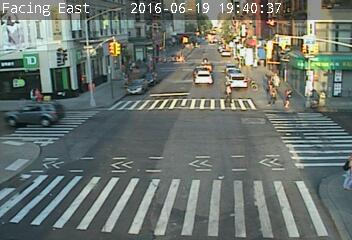neg: (186, 68, 204, 93), (240, 37, 258, 61), (101, 73, 117, 95), (146, 68, 160, 86), (223, 53, 234, 68)
pos: (220, 78, 239, 103), (280, 87, 298, 110), (266, 84, 282, 106)
